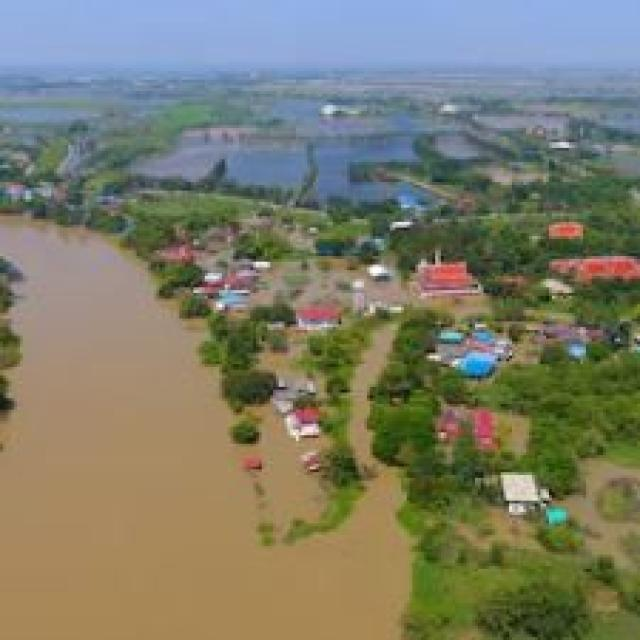flooded_areas: (6, 208, 632, 637)
